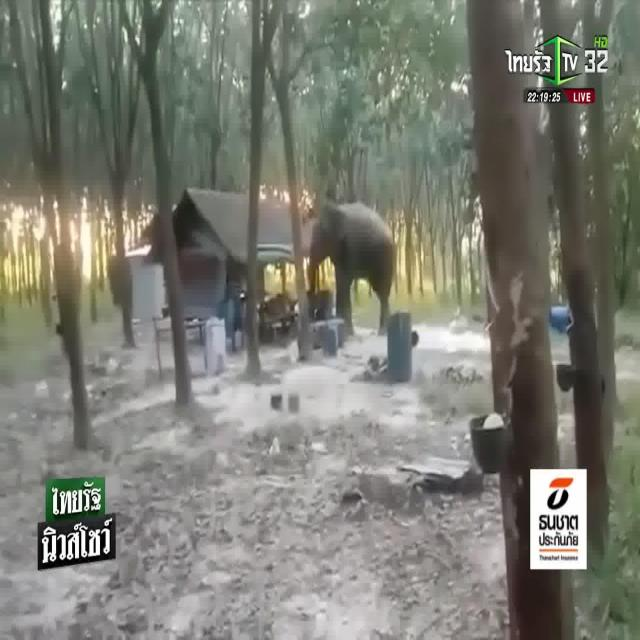Elephant: (312, 190, 400, 307)
